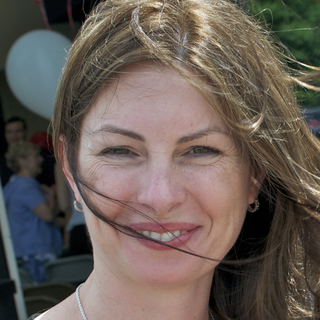eye: (175, 140, 226, 164), (96, 141, 145, 164)
